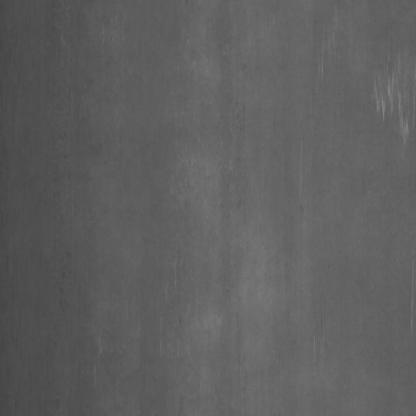silk_spot: (374, 43, 410, 132)
